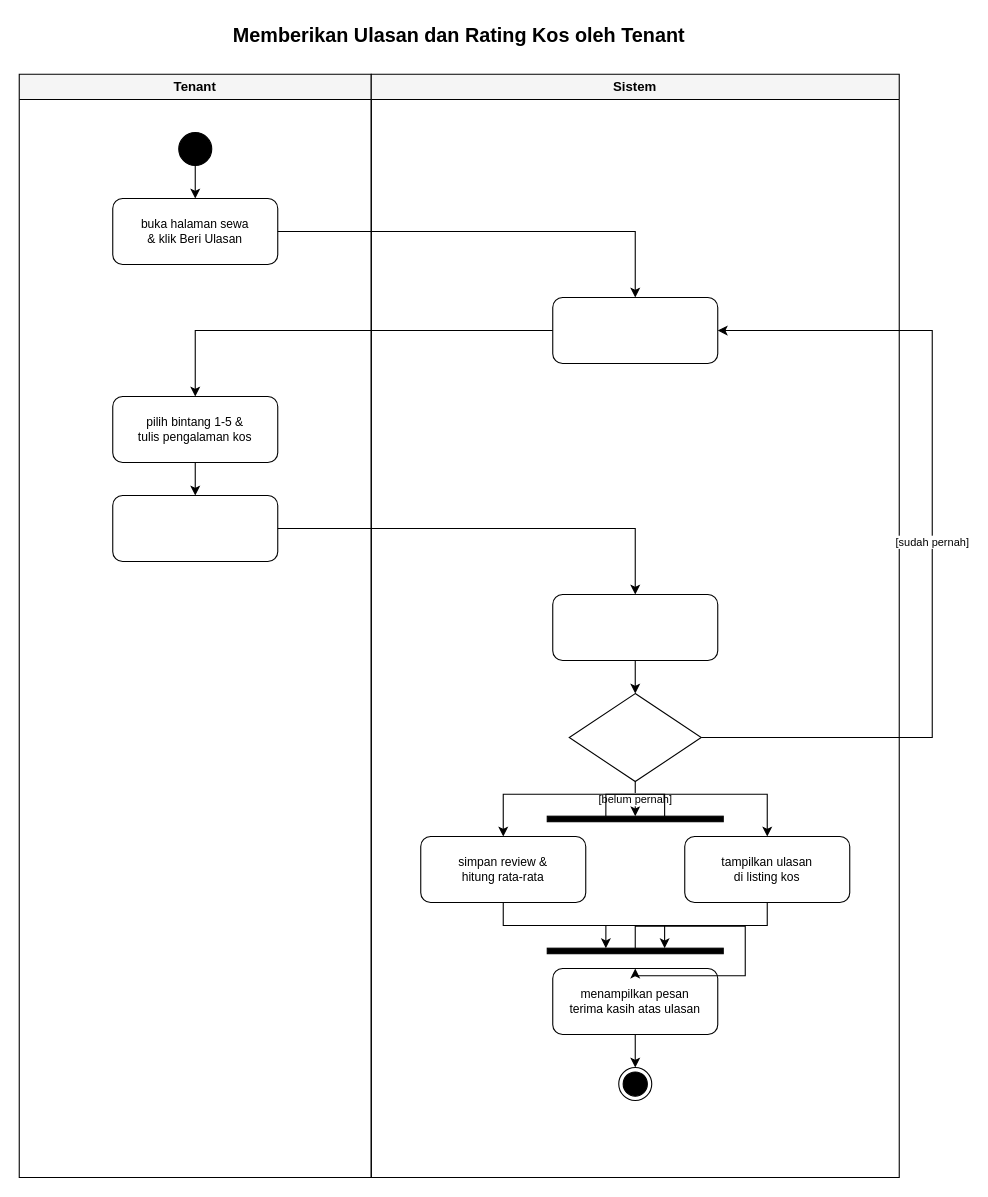
Image size: 988x1197. Some labels were removed from this diagram. The centre of each missing label's shape, as x and y in pixels:
"belum pernah ulas kos ini?" goes at (634,737).
"menampilkan modal rating & ulasan" goes at (635,330).
"submit ulasan" goes at (195,528).
"validasi status sewa & cek ulasan ganda" goes at (635,627).
